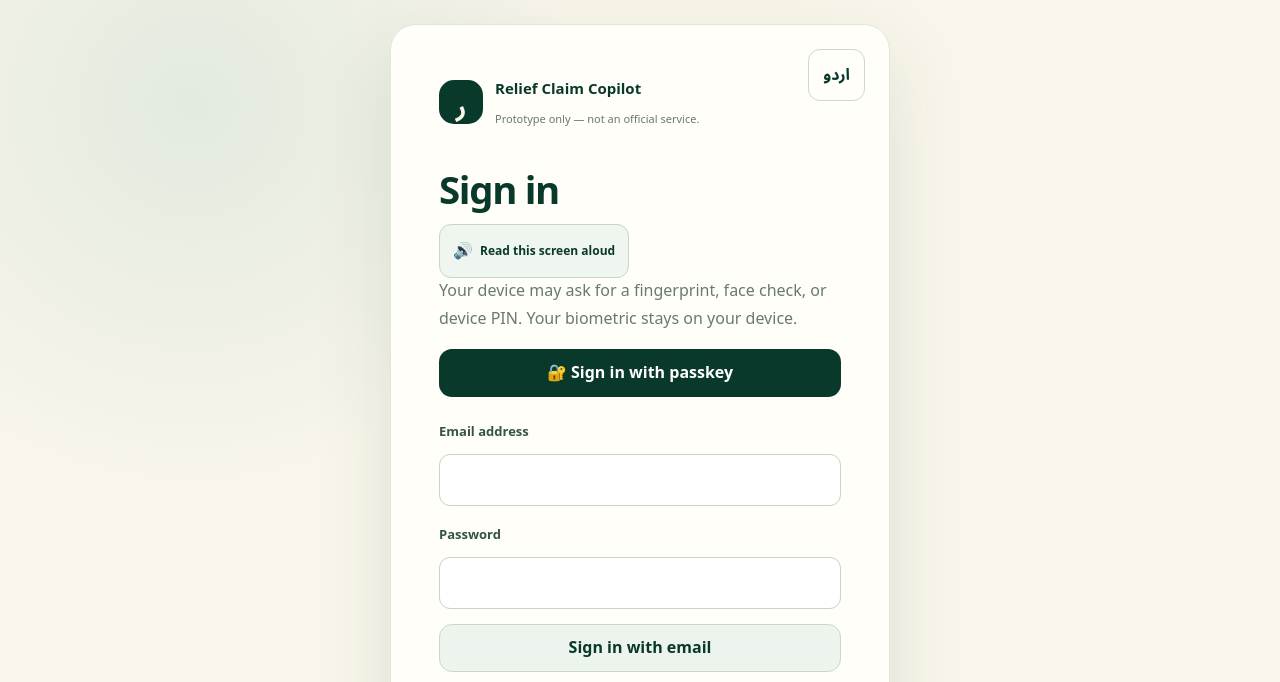
Test: Supabase sign-in and Flask profile verification › keeps a rejected backend JWT out of the authenticated app
This screenshot has width=1280, height=682.
What coordinates should you click on to do the following:
click the button "🔐 Sign in with passkey"
I would click on:
 (640, 373)
Its box is [439, 349, 841, 397].
(page scrolled)
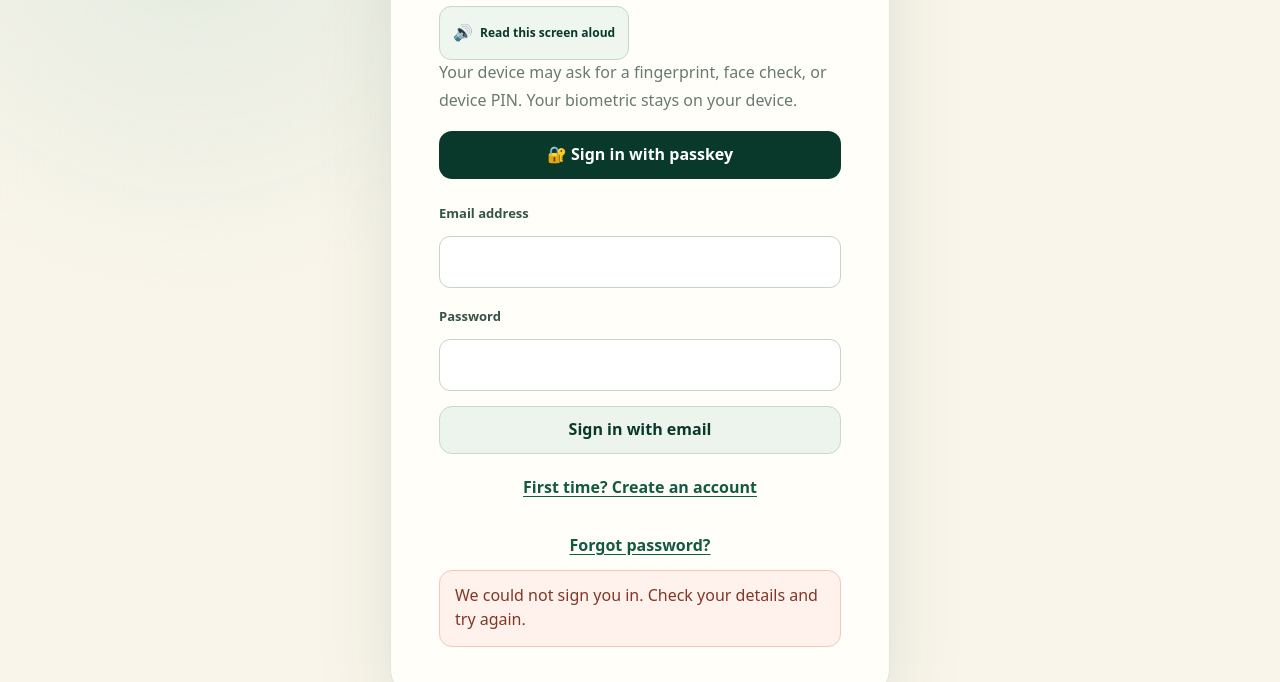
Check: the message shows "We could not sign you in", box [455, 579, 818, 638]
